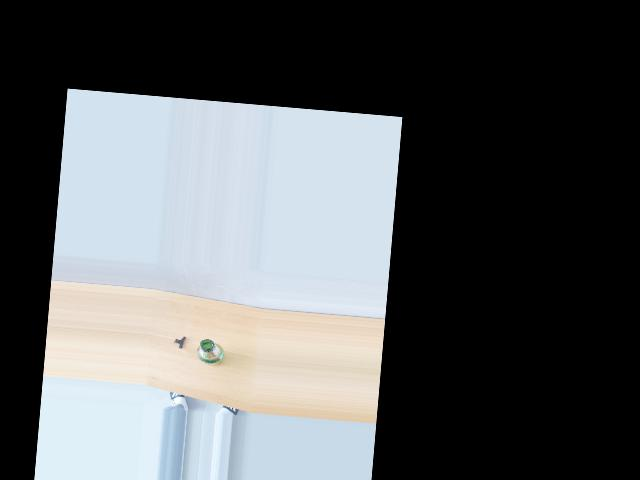beer: (195, 338, 225, 367)
